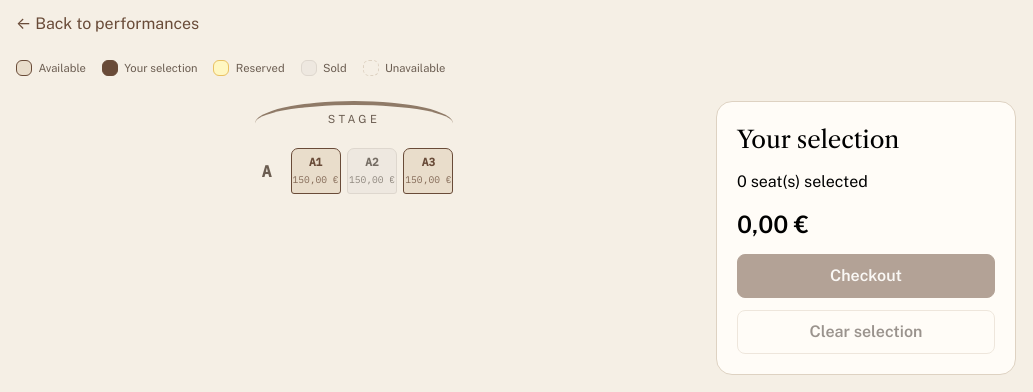
Test: SeatSelectionScreen › signed in › reserves a seat on click, as before
Click the button named "Seat A1" at (316, 171), box 291,148 -> 341,194
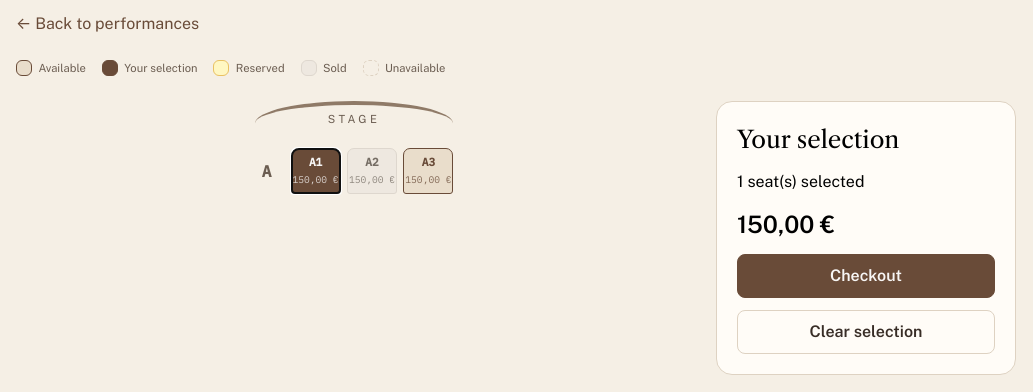
Check: the text "1 seat(s) selected" is shown, box 737,172 -> 864,191
